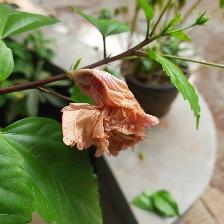hibiscus: (60, 67, 161, 165)
